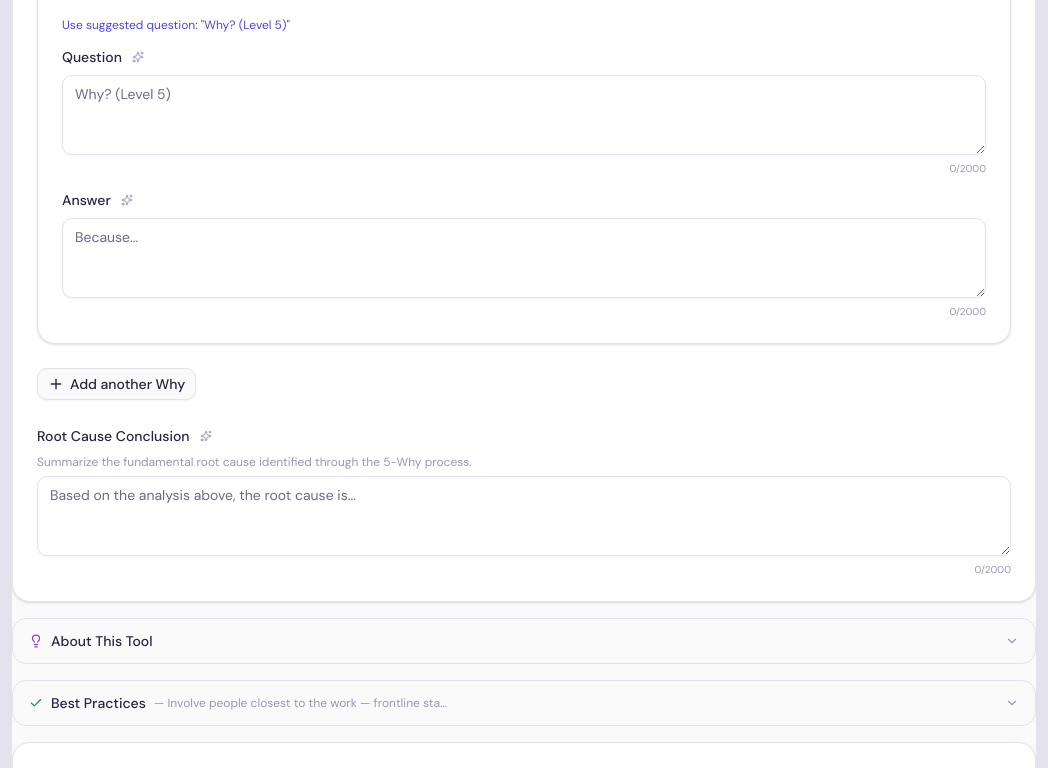
FiveWhyForm › adds a 6th Why on button click
The image size is (1048, 768).
(page scrolled)
Check: the text "Why #6" is not shown
Click the button "Add another Why".
click(117, 384)  # box [37,368,196,400]
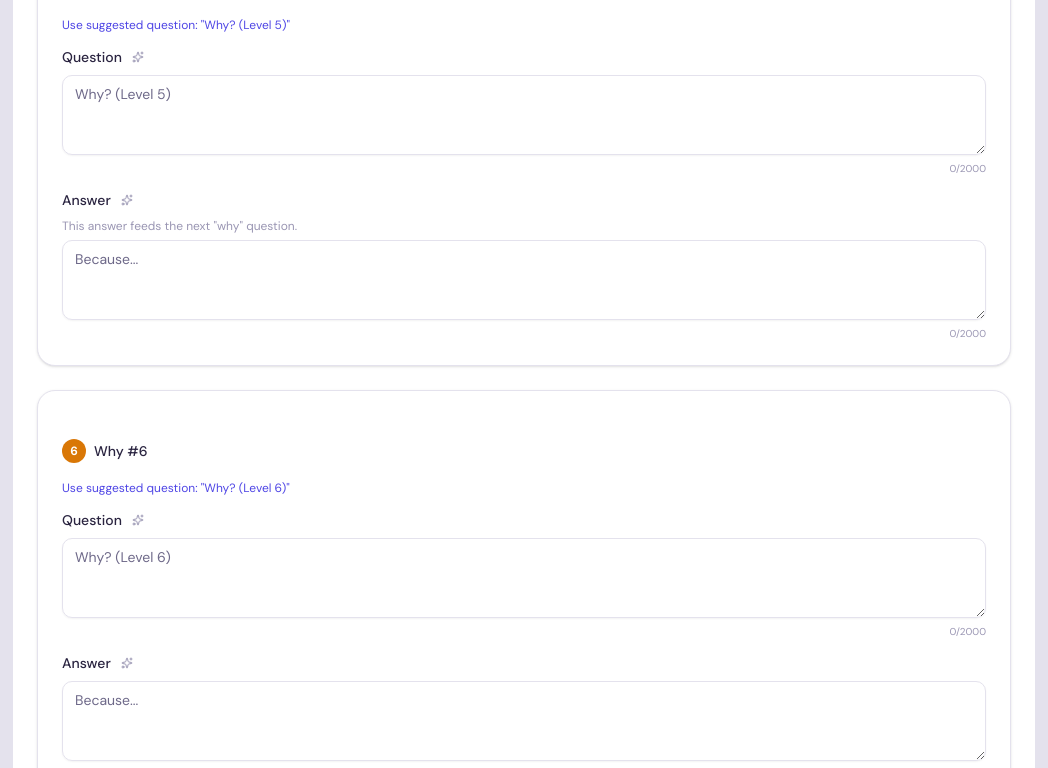
Check: the text "Why #6" is shown, box [94,441,148,461]
